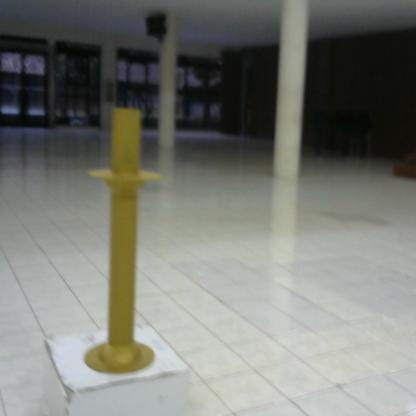pole: (81, 100, 167, 379)
